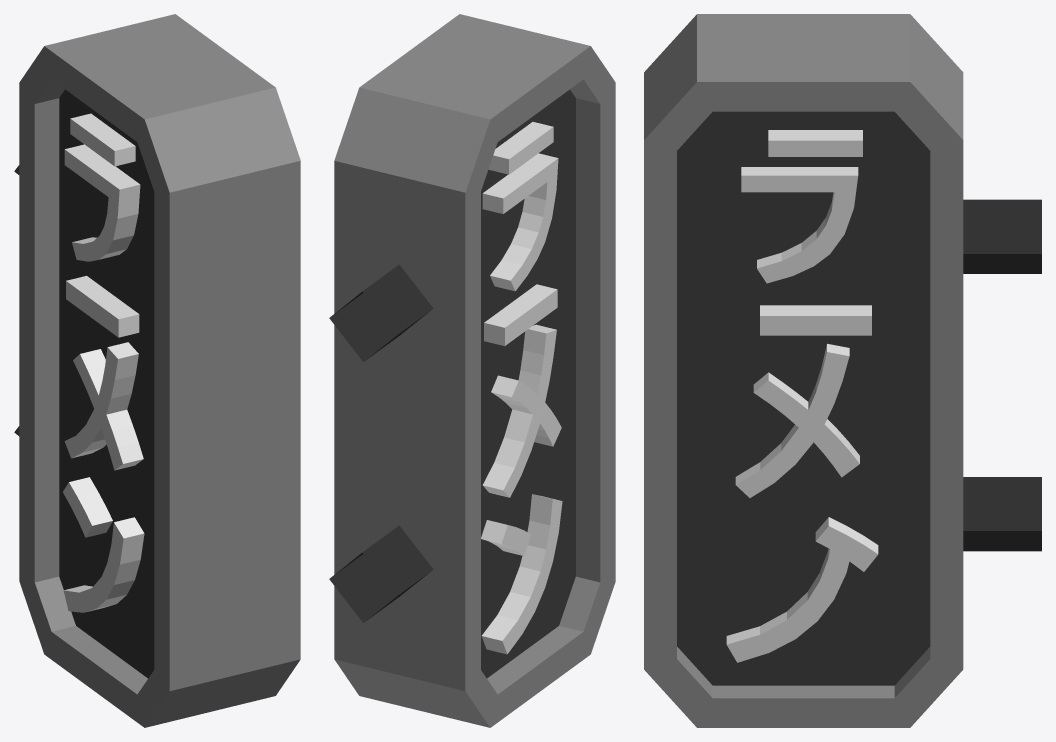
Rendered from sign_ramen.FBX.
The picture shows the model from 3 angles, left to right: view 1: azimuth 30°, elevation 25°; view 2: azimuth 150°, elevation 25°; view 3: azimuth 270°, elevation 25°; orthographic projection. The views are drawn at different scales.
Parts seen in each view (by area): view 1: sign_ramen, sign_ramen_glow; view 2: sign_ramen, sign_ramen_glow; view 3: sign_ramen, sign_ramen_glow.
Boxes of the visible parts, box(x1,y1,x2,y2) form: sign_ramen: box(14, 14, 300, 727); sign_ramen_glow: box(63, 113, 144, 612); sign_ramen: box(329, 14, 615, 727); sign_ramen_glow: box(481, 122, 562, 654); sign_ramen: box(644, 14, 1041, 727); sign_ramen_glow: box(726, 130, 878, 662).
Bounding box in the file's own units: 18.24 × 80.87 × 45.14.
